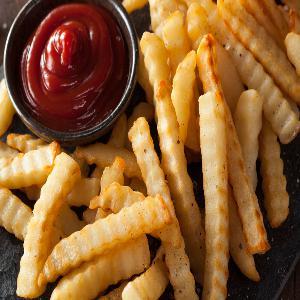fries_350cal: (143, 29, 289, 295)
